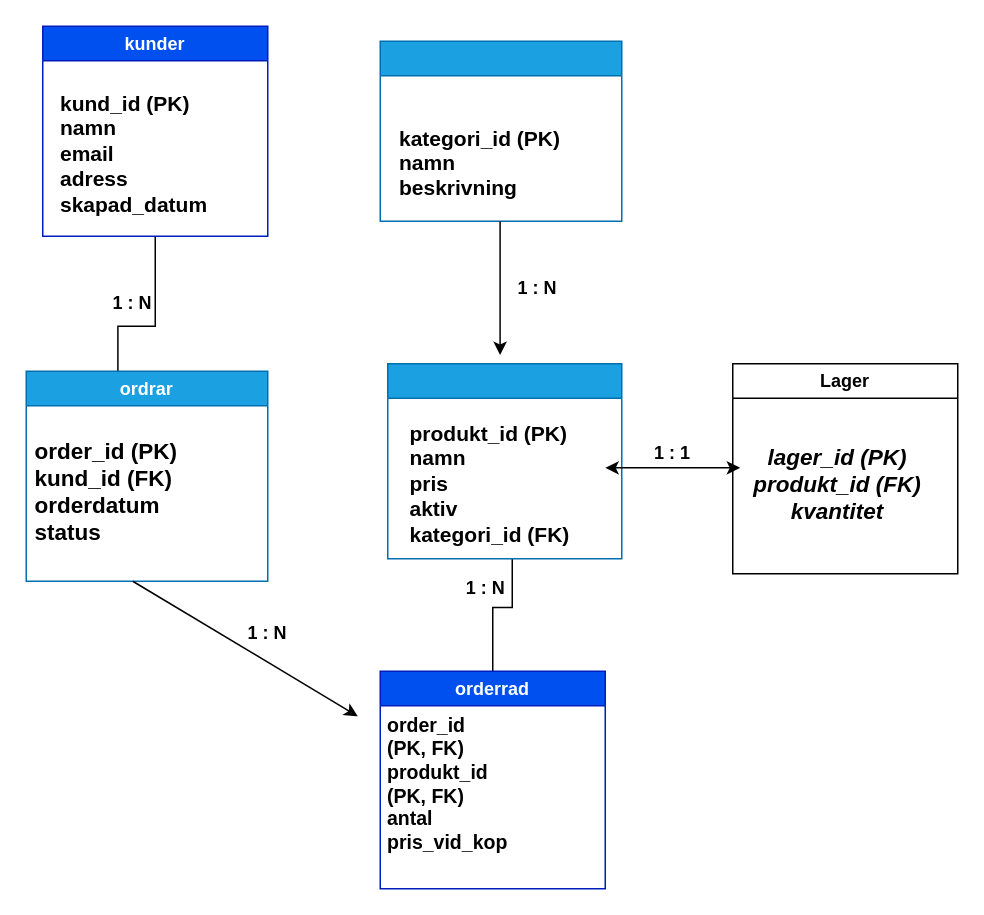
The diagram is 984 pixels wide and 915 high, and some of its shapes have lost their labels. Here are the shapes that lost their labels. From the top down, the box of each, then its label:
(379, 40, 622, 221): kategorier
(386, 362, 622, 559): produkter
